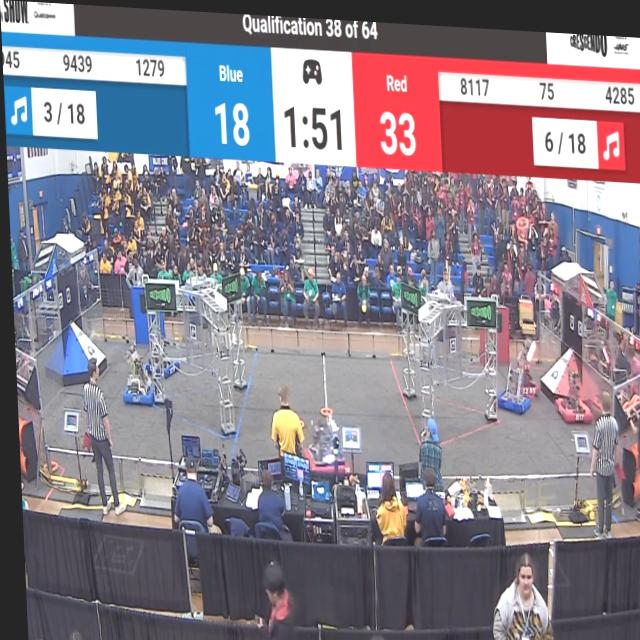Robot: (302, 401, 347, 473), (546, 347, 586, 422), (494, 343, 531, 414), (503, 320, 538, 391), (116, 342, 152, 409), (144, 326, 178, 380)
